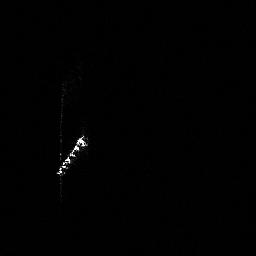ship: (52, 131, 91, 179)
